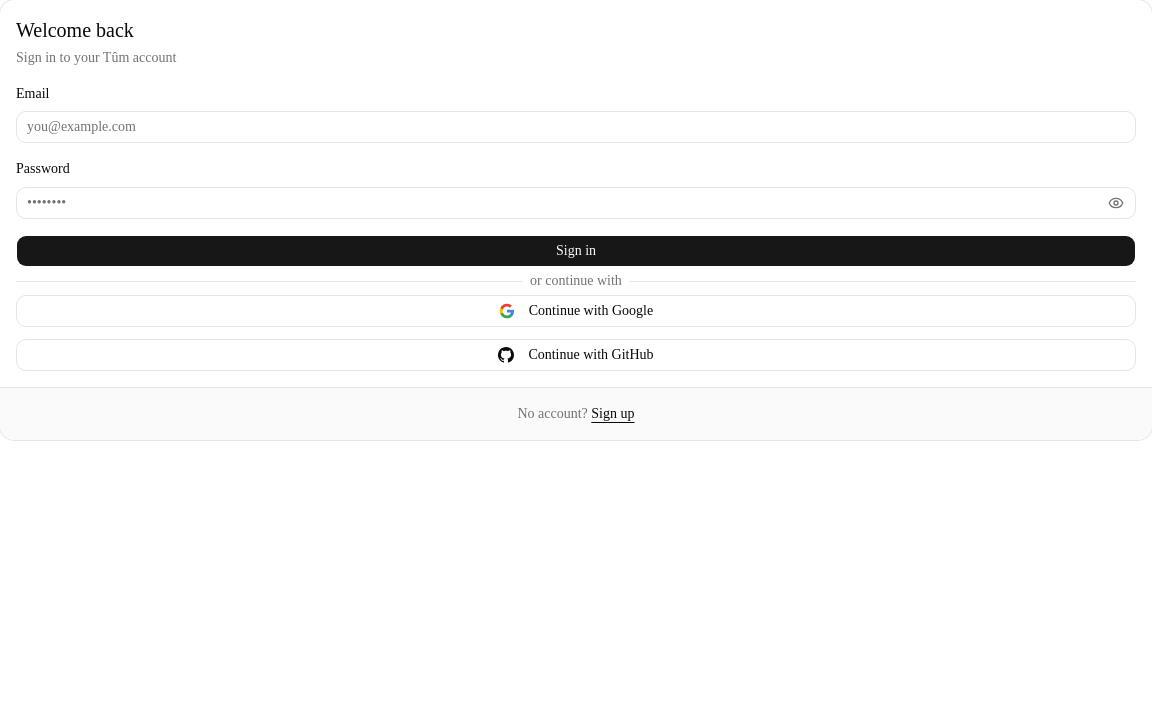
Scenario: LoginForm › shows validation errors when submitting empty form
Click the button "Sign in" at (576, 250), box [16,234,1136,266]
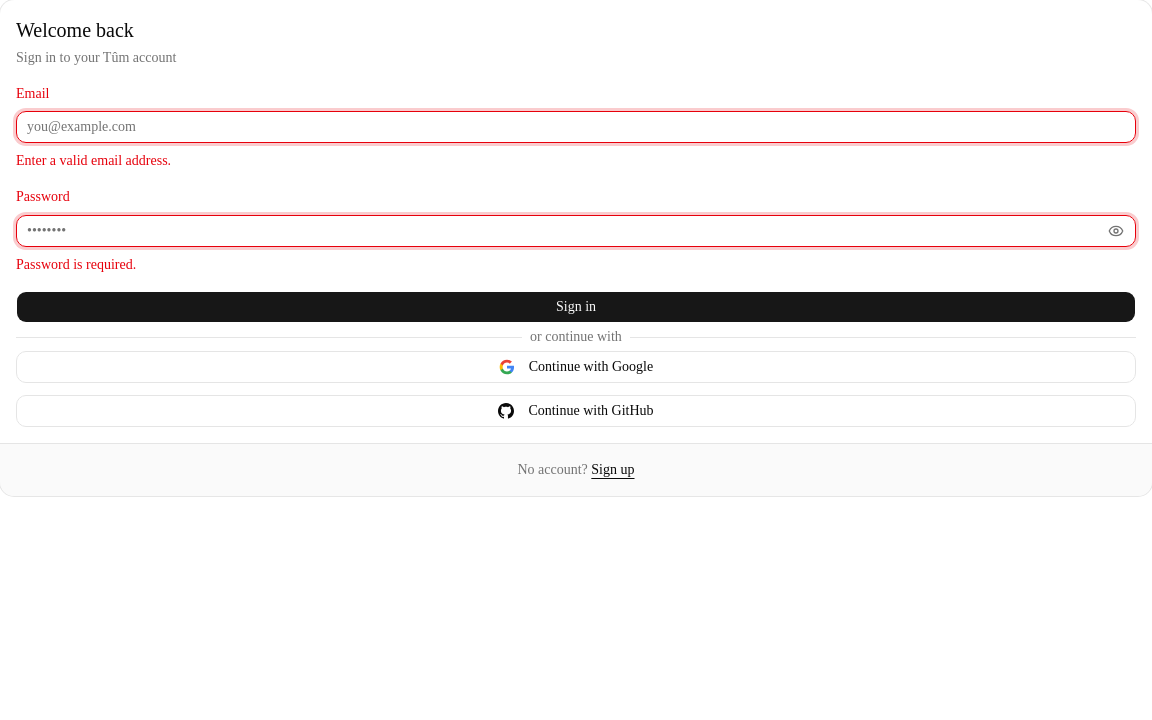
Expected: the text "Enter a valid email address." is shown, [16,153,171,168]
